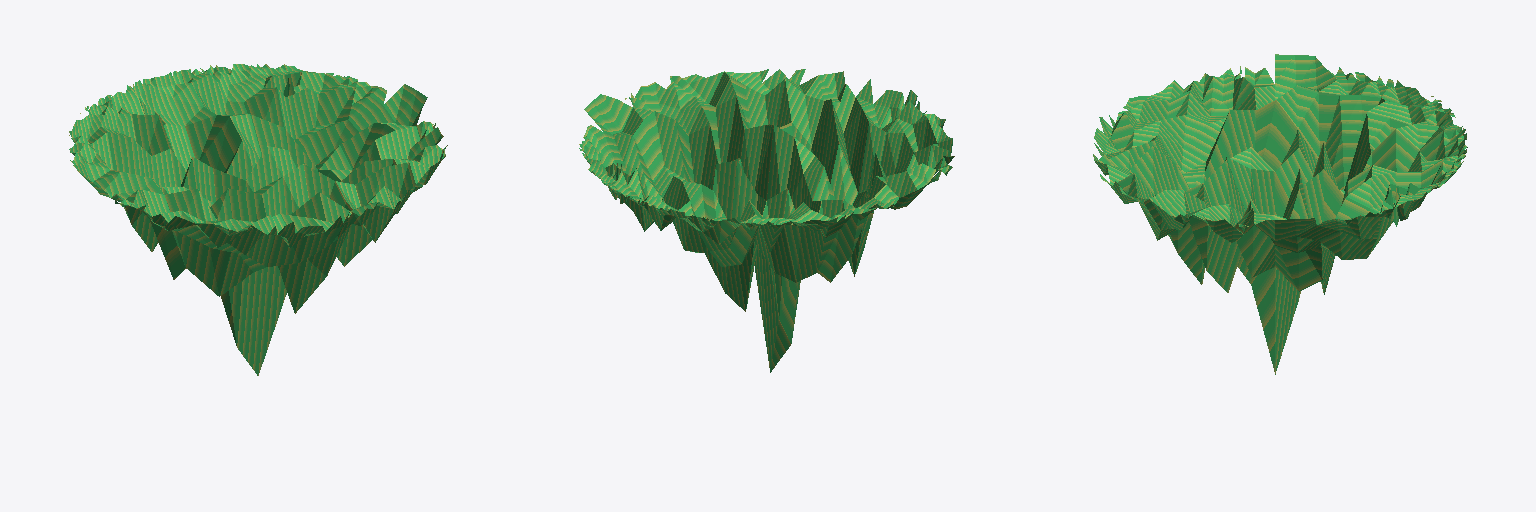
The picture shows the model from 3 angles: view 1: azimuth 30°, elevation 25°; view 2: azimuth 150°, elevation 25°; view 3: azimuth 270°, elevation 25°; orthographic projection.
Visible parts, largest first — view 1: groundfinal.003; view 2: groundfinal.003; view 3: groundfinal.003.
Part boxes in pixels (bbox=[...]): groundfinal.003: bbox=[69, 64, 447, 375]; groundfinal.003: bbox=[579, 69, 954, 372]; groundfinal.003: bbox=[1093, 54, 1467, 374].
Bounding box in the file's own units: 513 × 344 × 492.
Materials: 1 (1 with a texture image).